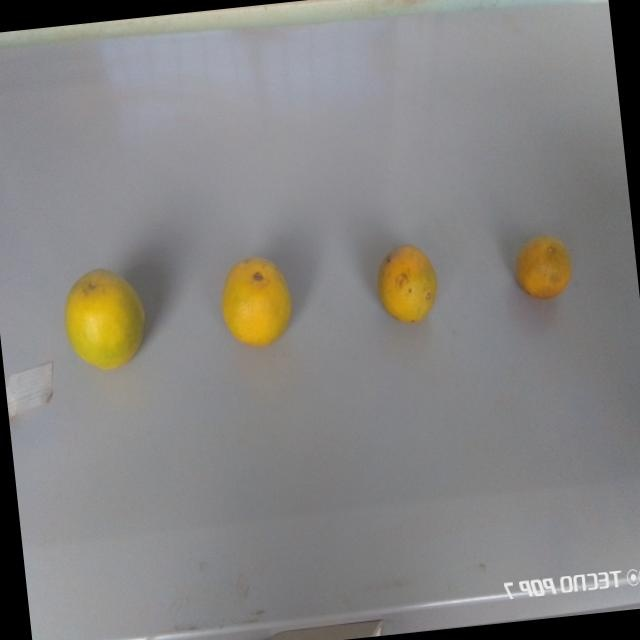agrume: (49, 257, 152, 376), (212, 241, 300, 366), (367, 237, 445, 339), (502, 226, 581, 310)
